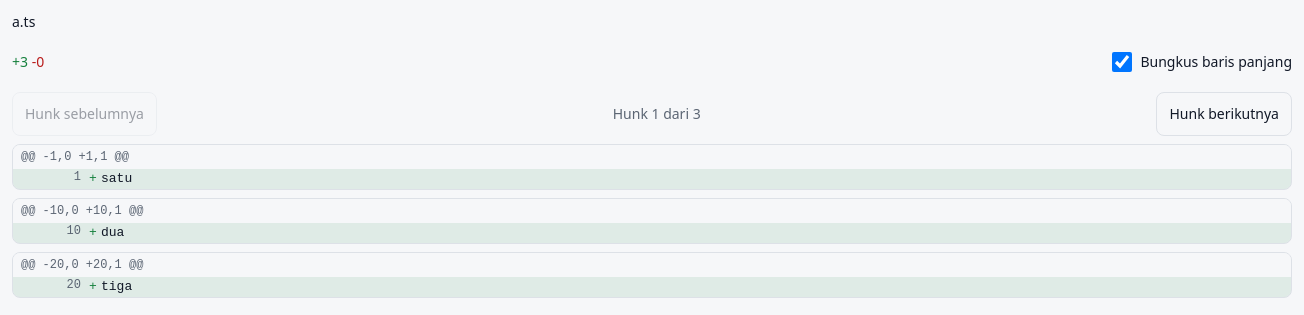
Test case: DiffViewer: navigasi › antar hunk: tombol sebelumnya/berikutnya, penunjuk posisi, dan menggulir ke hunk yang dituju
The image size is (1304, 315).
Later steps or results of the test are not shown.
Check: the text "Hunk 1 dari 3" is shown, box [613, 104, 701, 124]
Check: the button "Hunk sebelumnya" is disabled, box [12, 92, 157, 136]
Click the button "Hunk berikutnya" at (1224, 114), box [1156, 92, 1292, 136]
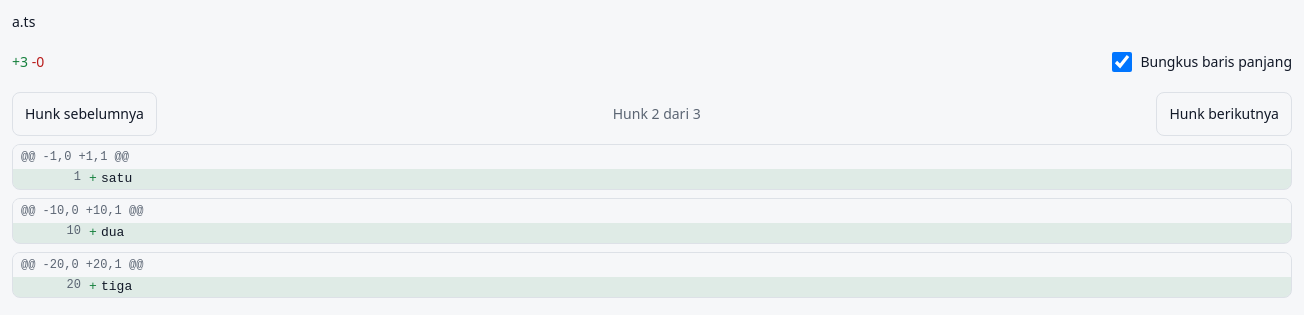
Check: the text "Hunk 2 dari 3" is shown, box [613, 104, 701, 124]
Click the button "Hunk berikutnya" at (1224, 114), box [1156, 92, 1292, 136]
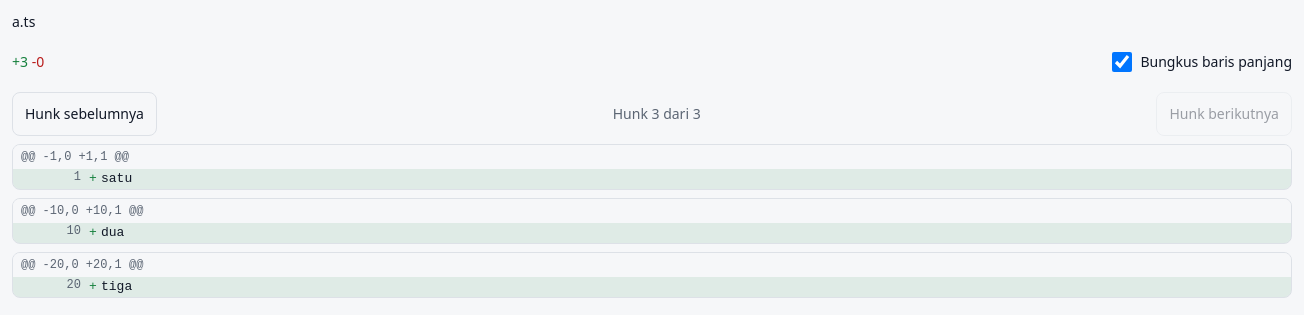
Check: the button "Hunk berikutnya" is disabled, box [1156, 92, 1292, 136]
